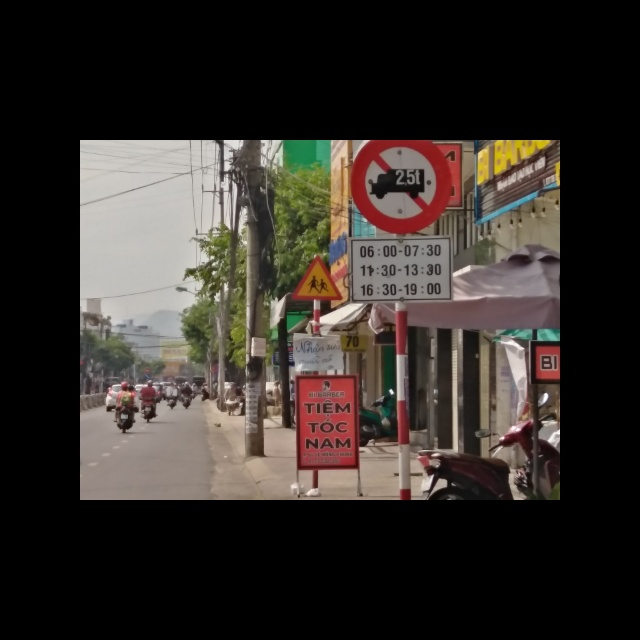Cấm xe tải: (348, 140, 455, 240)
Trẻ em ngang qua: (291, 255, 343, 301)
